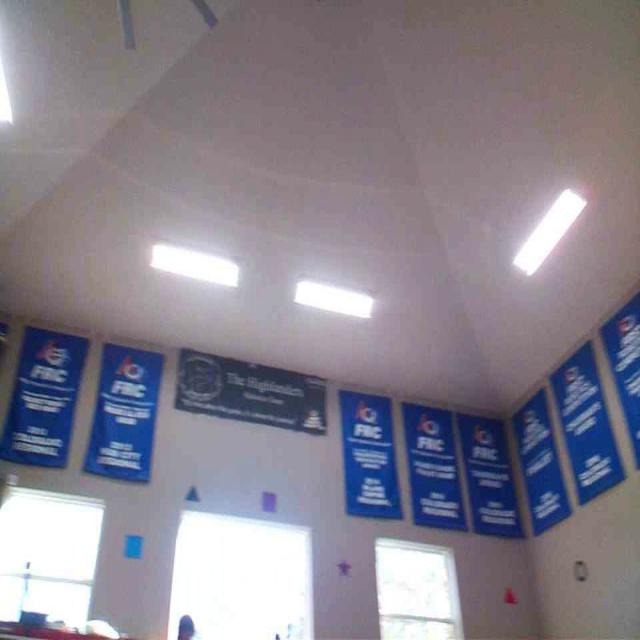ring_black: (573, 560, 588, 581)
square_blue: (124, 534, 143, 558)
square_purple: (262, 490, 276, 511)
star_purple: (337, 557, 351, 575)
triangle_black: (184, 486, 199, 502)
triangle_red: (503, 585, 516, 604)
